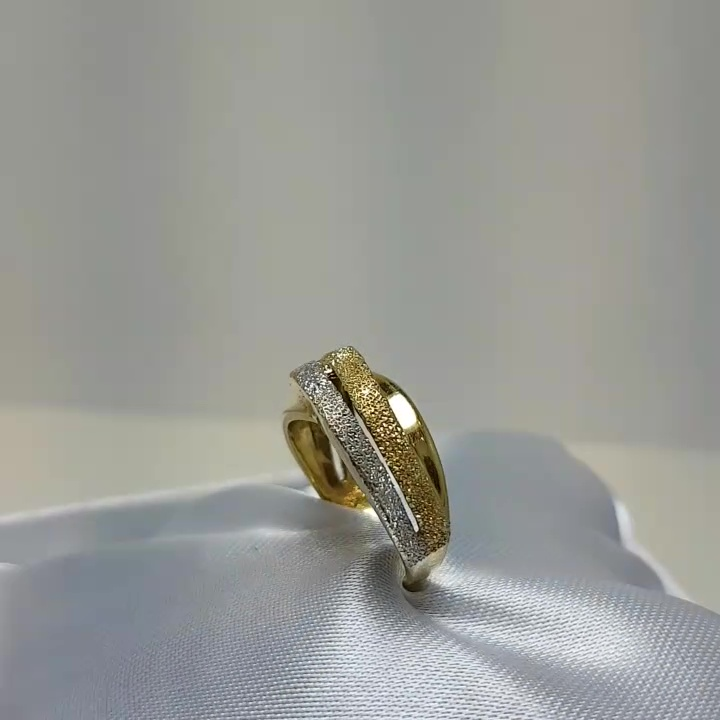Ring 5: (258, 339, 474, 604)
